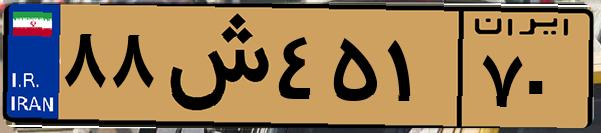0: (525, 38, 570, 115)
1: (385, 28, 445, 110)
4: (270, 28, 330, 110)
5: (330, 28, 385, 110)
7: (475, 38, 525, 113)
8: (57, 26, 110, 100), (110, 28, 158, 98)
ش: (158, 12, 270, 120)
